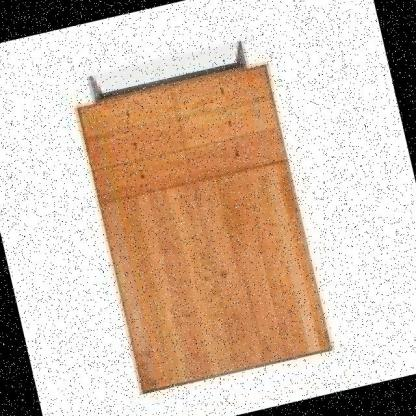Closet: (58, 31, 340, 403)
